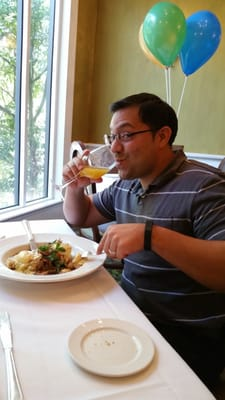sushi: (1, 238, 106, 285)
